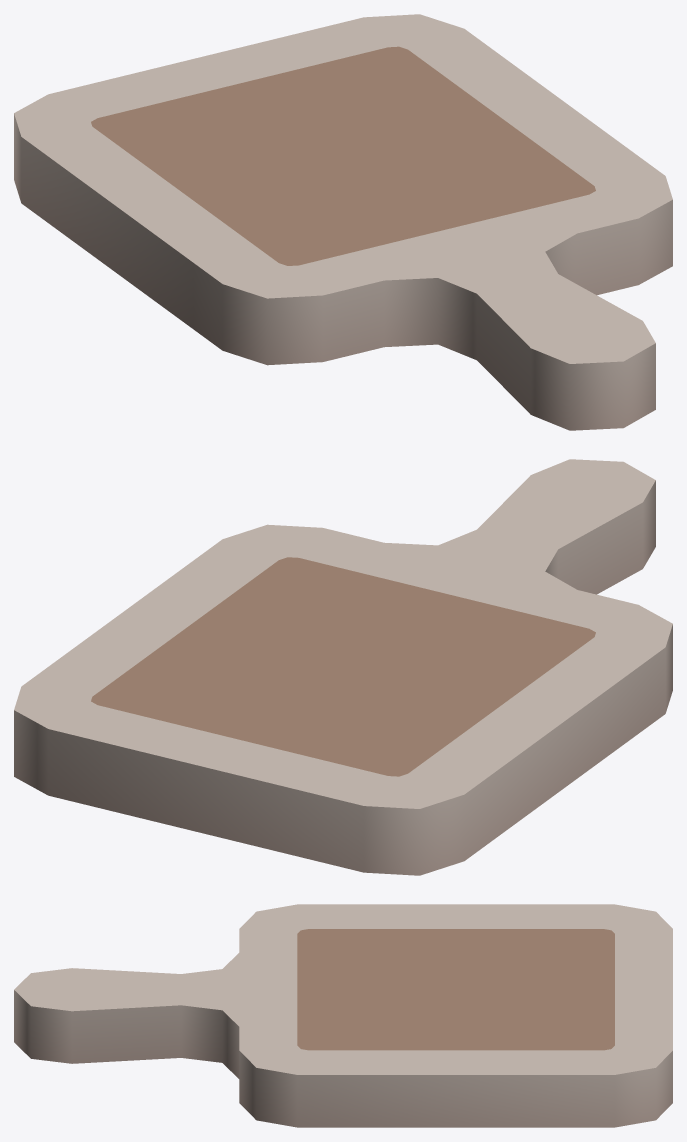
Rendered from cutting-board.glb.
3 renders of one model, top to bottom at view 1: azimuth 30°, elevation 25°; view 2: azimuth 150°, elevation 25°; view 3: azimuth 270°, elevation 25°, orthographic. The views are drawn at different scales.
Visible parts, largest first — view 1: cutting-board; view 2: cutting-board; view 3: cutting-board.
Part boxes in pixels (box(x1,y1,x2,y2)): cutting-board: box(14, 14, 672, 430); cutting-board: box(14, 459, 672, 875); cutting-board: box(14, 904, 672, 1127).
Bounding box in the file's own units: 0.2782 × 0.04 × 0.4542.
